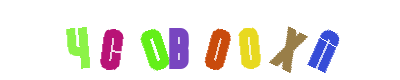0: (150, 0, 230, 80)
4: (71, 0, 151, 80)
B: (159, 0, 239, 80)
C: (79, 0, 159, 80)
N: (284, 0, 364, 80)
O: (177, 0, 257, 80), (209, 0, 289, 80)
X: (242, 0, 322, 80)
